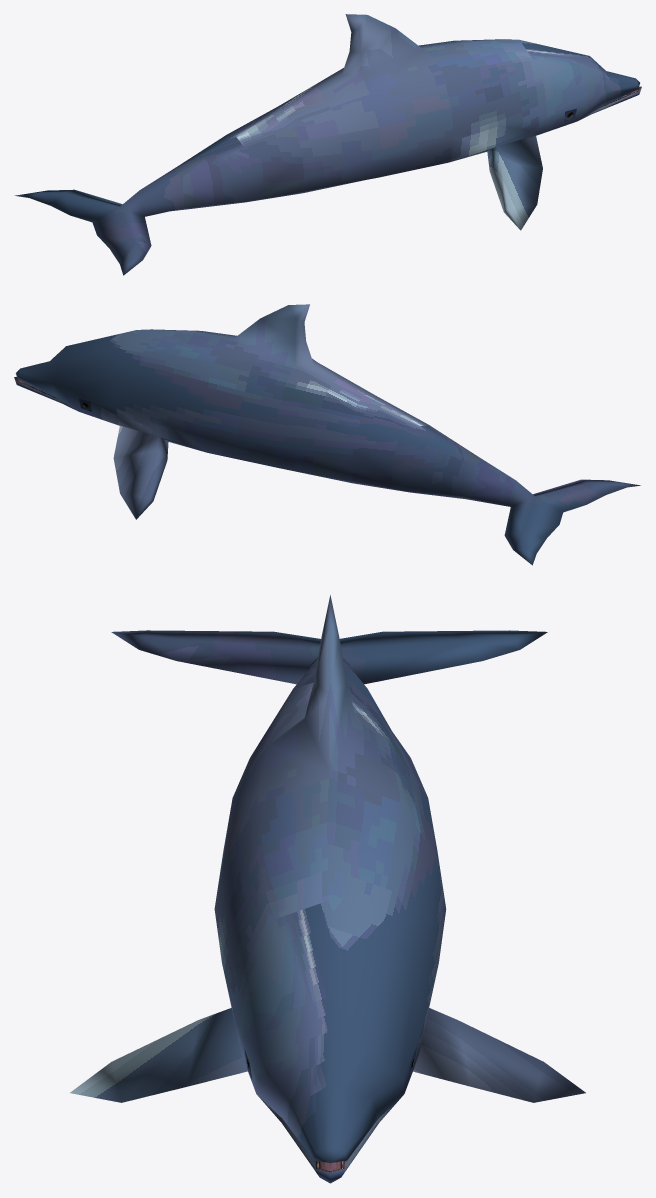
File: Dolphin.obj
3 renders of one model, top to bottom at view 1: azimuth 30°, elevation 25°; view 2: azimuth 150°, elevation 25°; view 3: azimuth 270°, elevation 25°, orthographic. The views are drawn at different scales.
Bounding box in the file's own units: 44.1 × 14.39 × 17.22.
4 materials, 4 textured.
